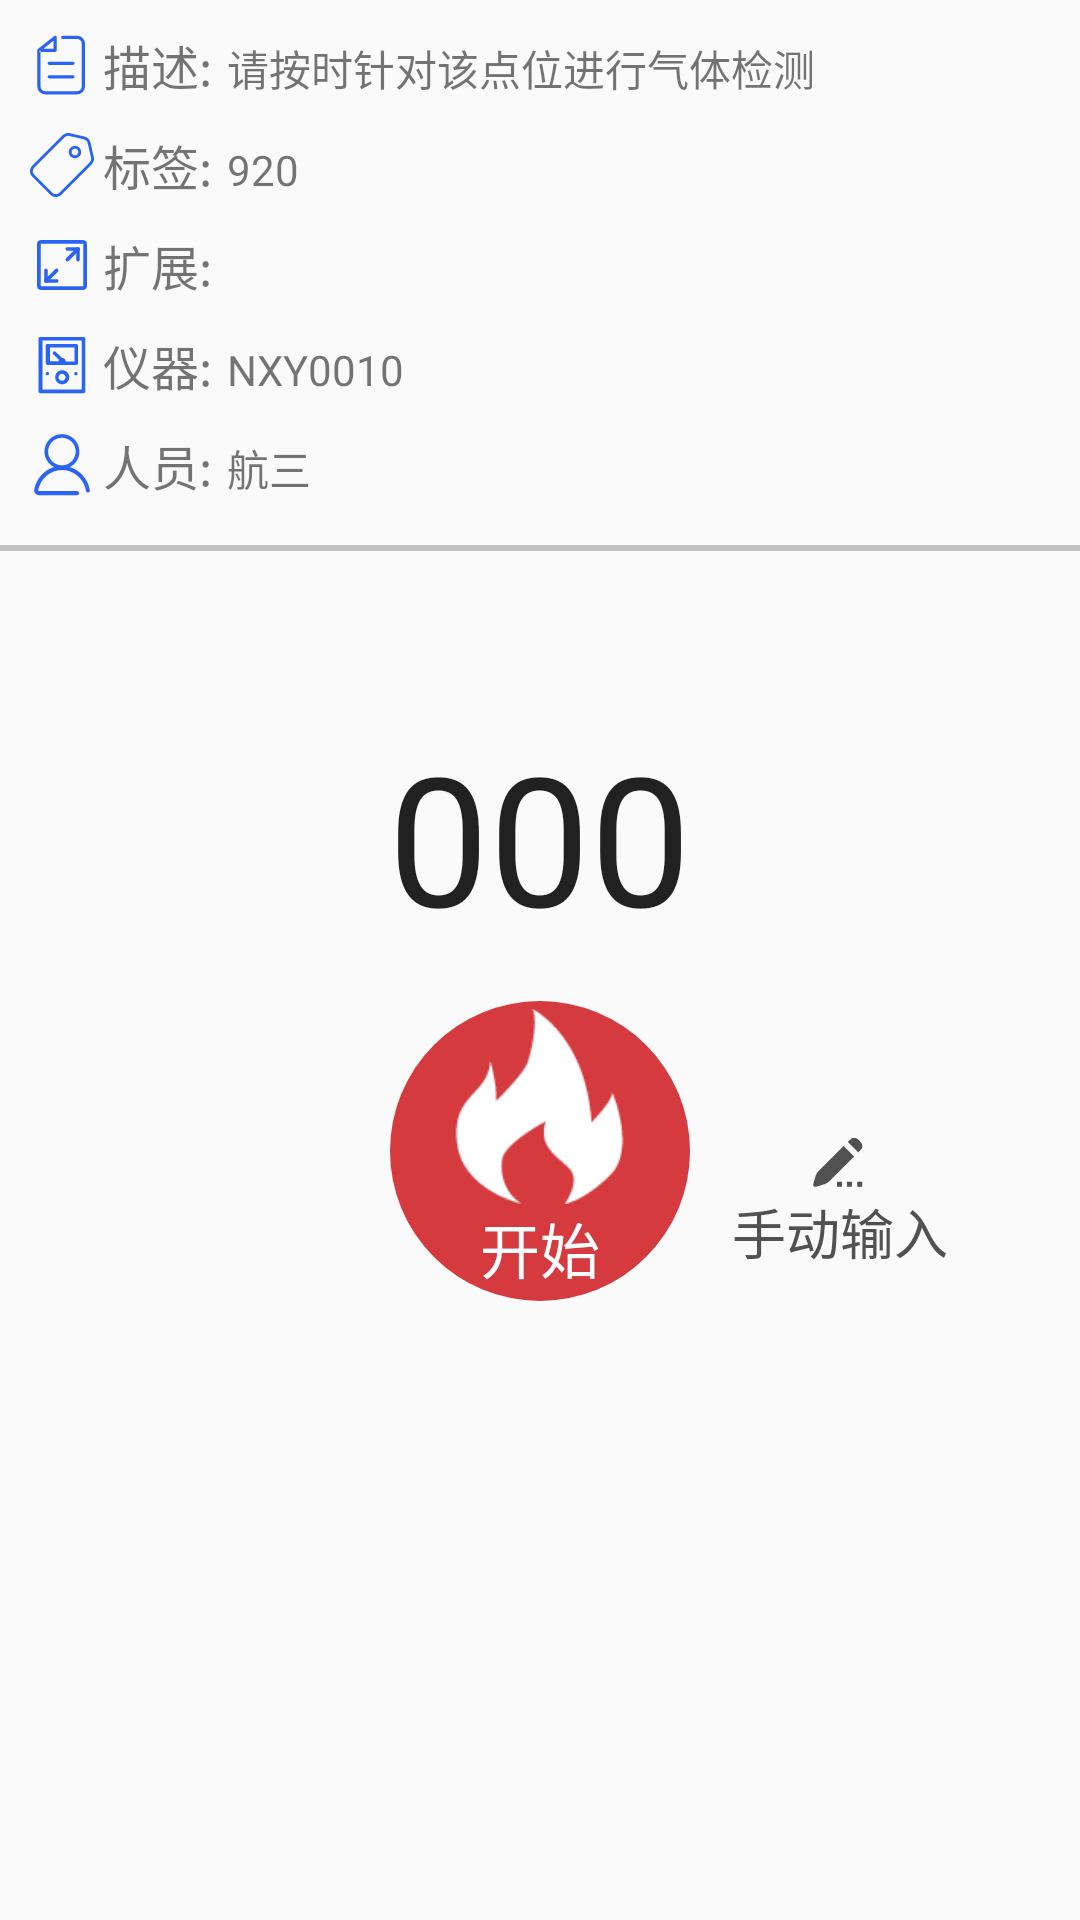

Point at icon controls on the screen. Image size 1080 x 1920, points as (x=x, y=y).
fire: (x=539, y=1106)
